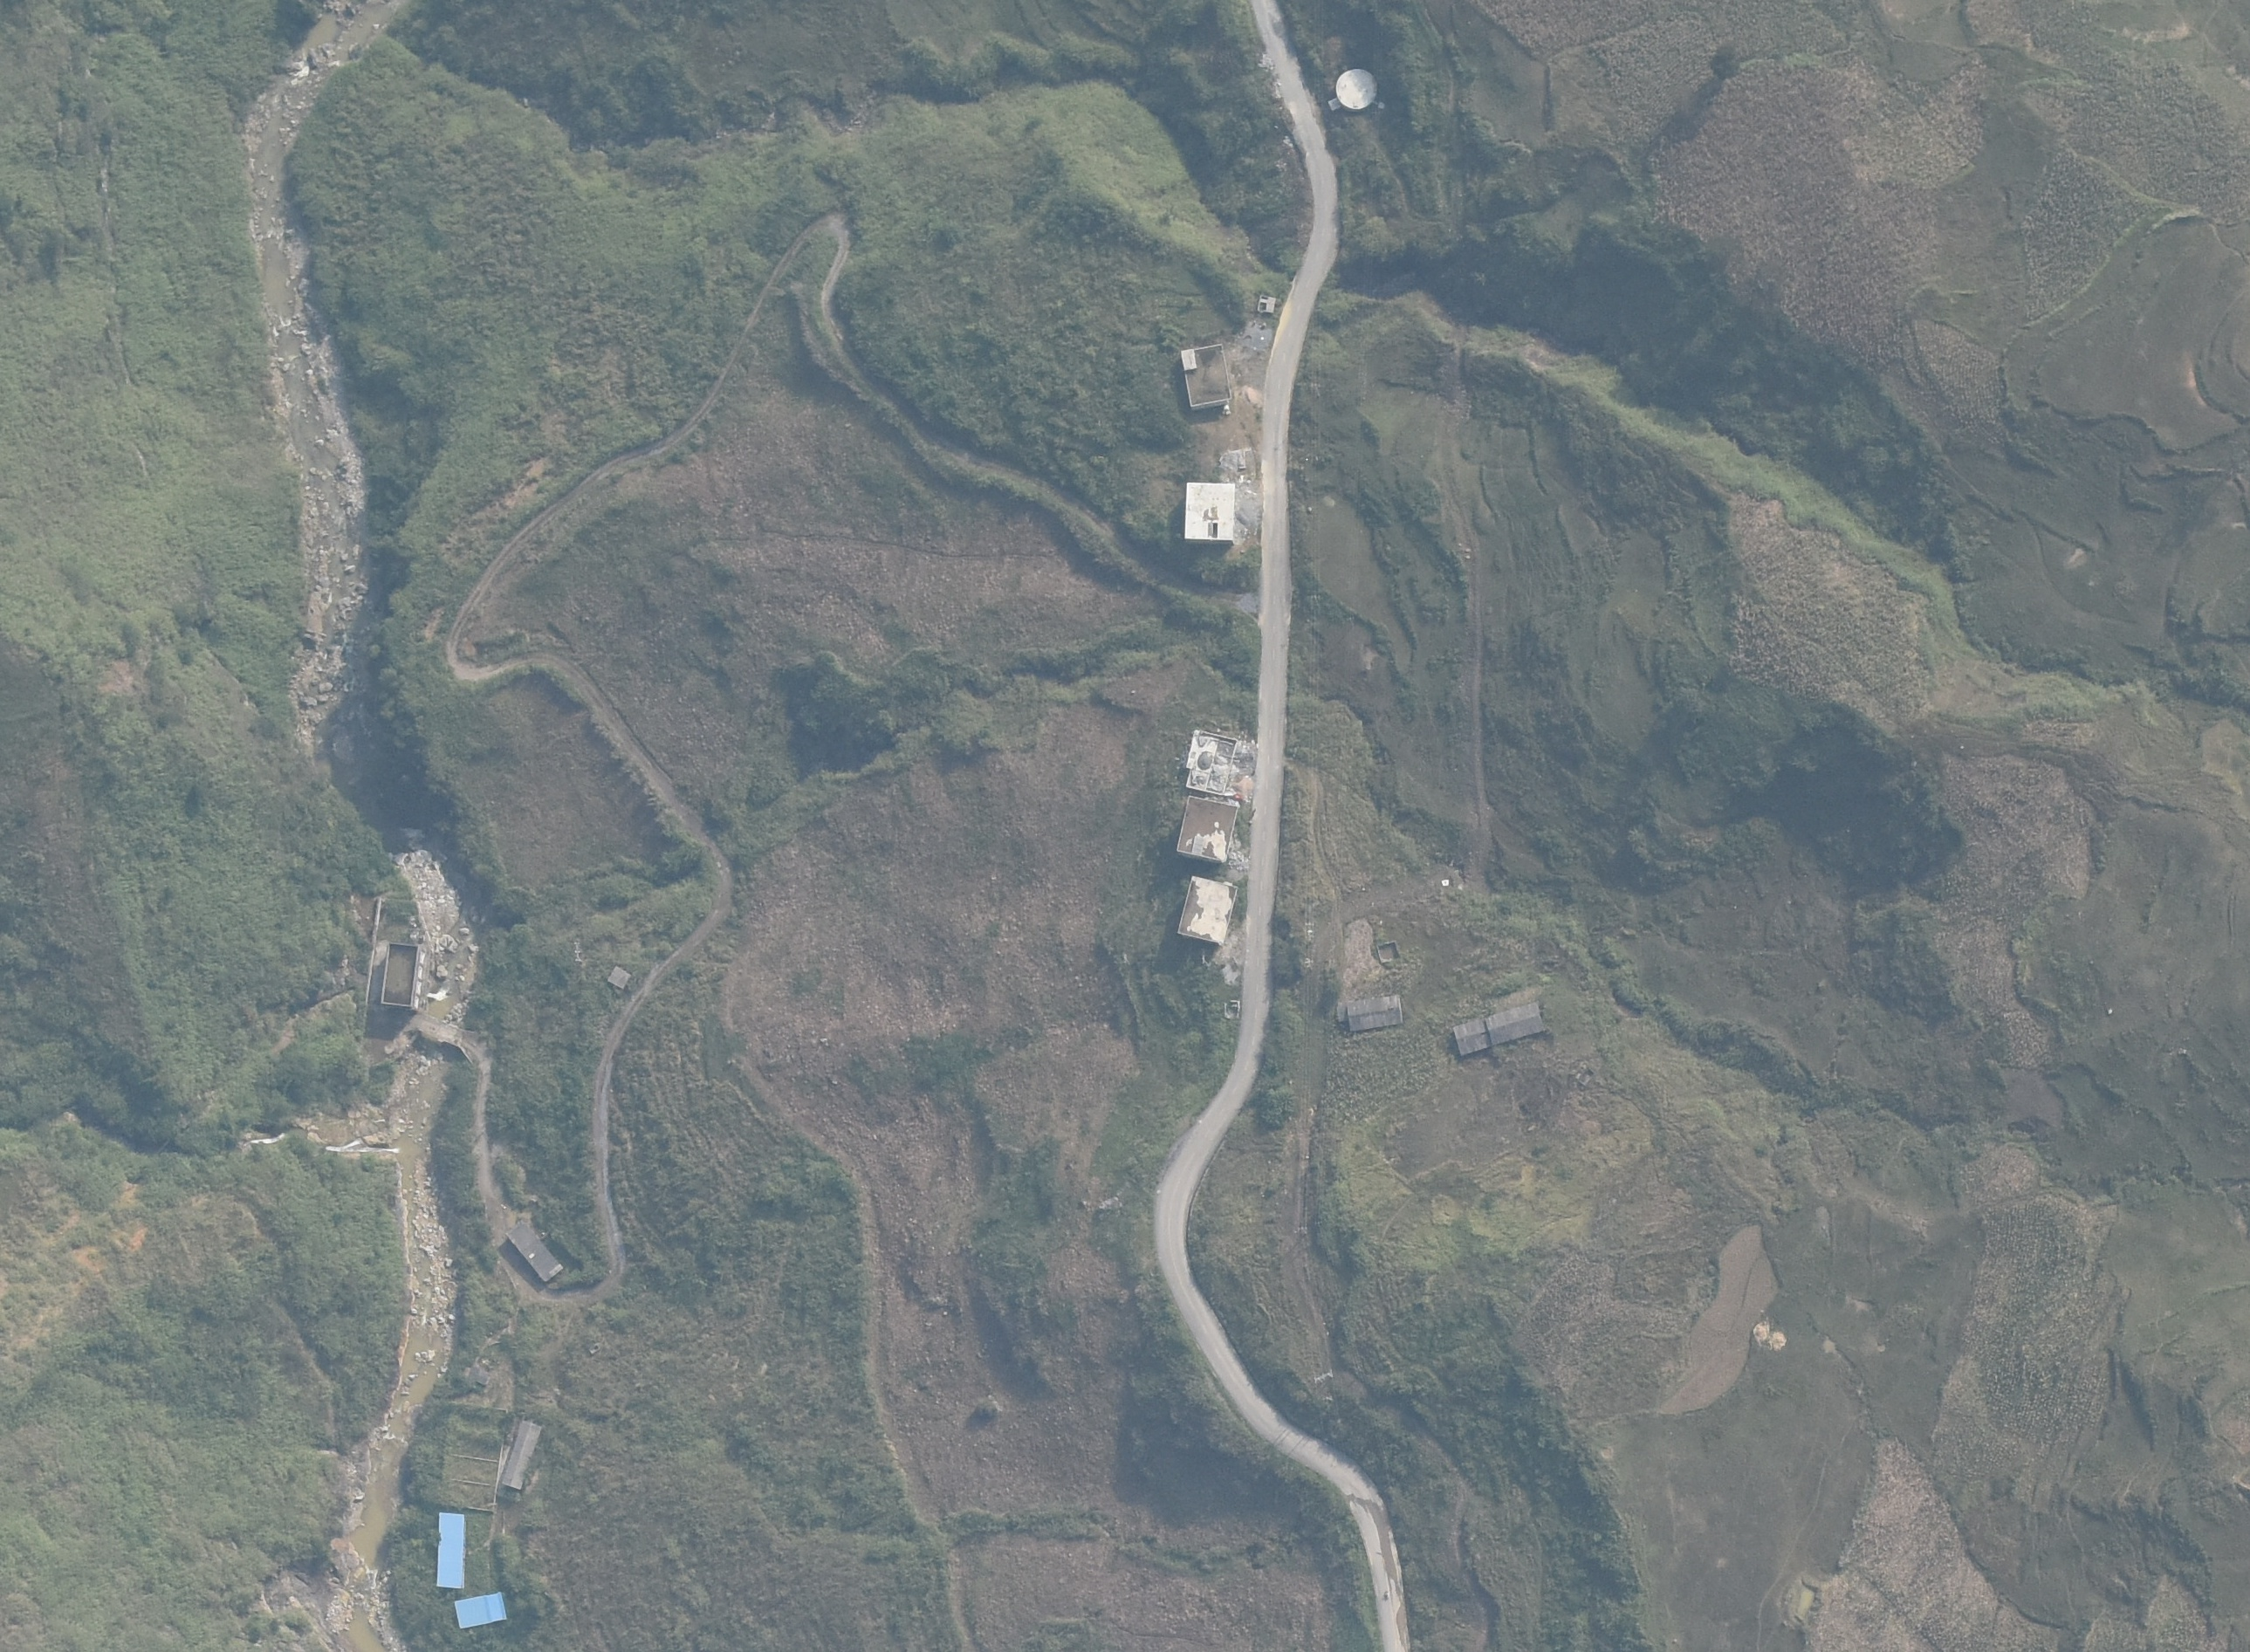building: (1170, 334, 1253, 419), (1170, 873, 1242, 946), (1179, 472, 1232, 561), (1172, 796, 1246, 856), (505, 1221, 564, 1287), (381, 936, 424, 1013), (1485, 999, 1543, 1051), (1343, 999, 1408, 1036), (1446, 1018, 1492, 1058), (601, 964, 638, 994), (1254, 290, 1279, 318)
prefabricated-house: (496, 1413, 547, 1495), (433, 1511, 473, 1589), (447, 1594, 512, 1631)
well: (1336, 68, 1378, 110)
